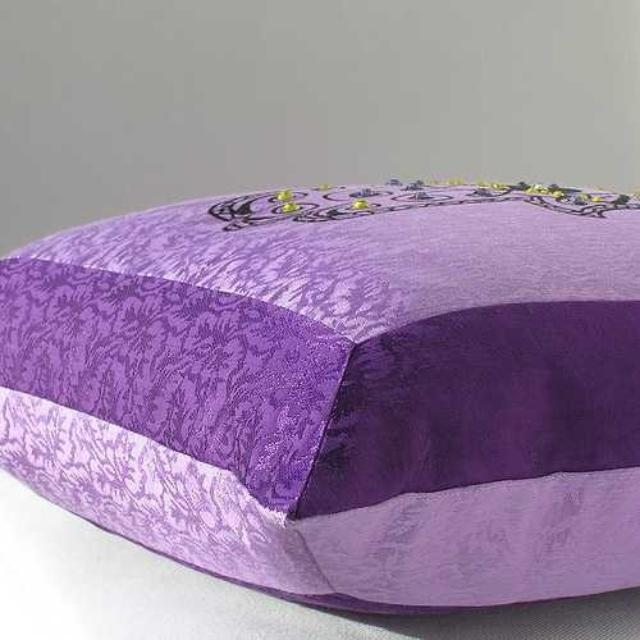pillow: (0, 179, 638, 615)
